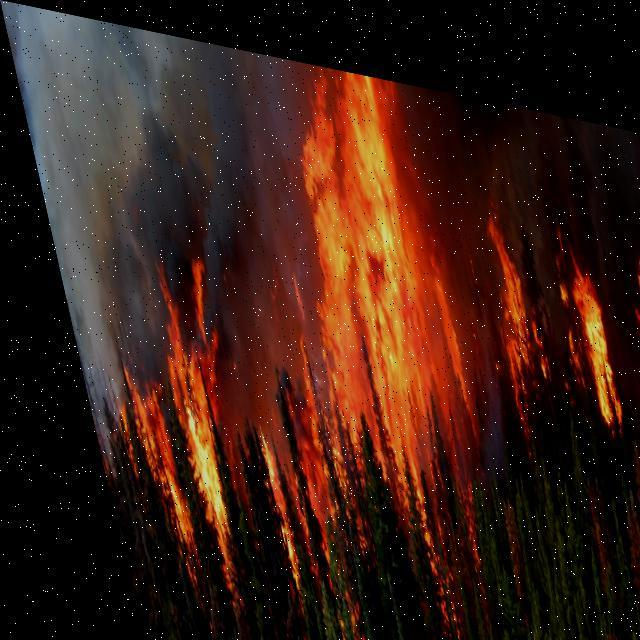Fire: (183, 34, 498, 607), (59, 227, 244, 601), (462, 182, 558, 424), (531, 190, 621, 428), (600, 191, 639, 466)
